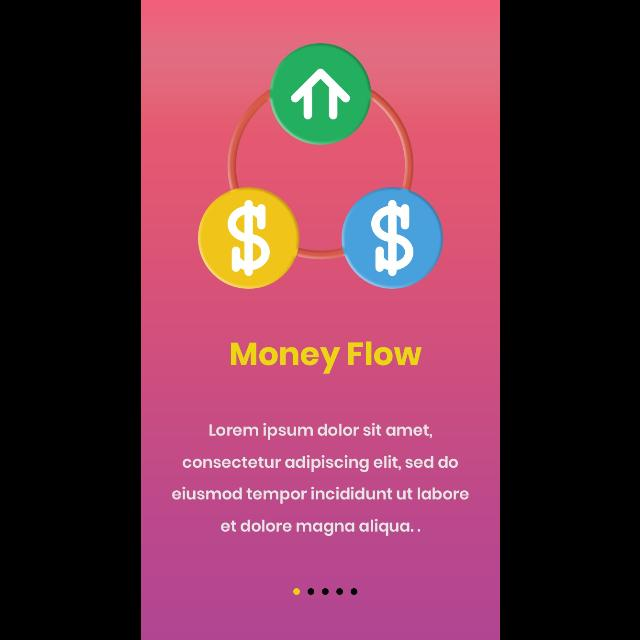image: (197, 43, 443, 290)
pageindicator: (292, 588, 358, 596)
text: (172, 424, 468, 536), (230, 342, 422, 374)
